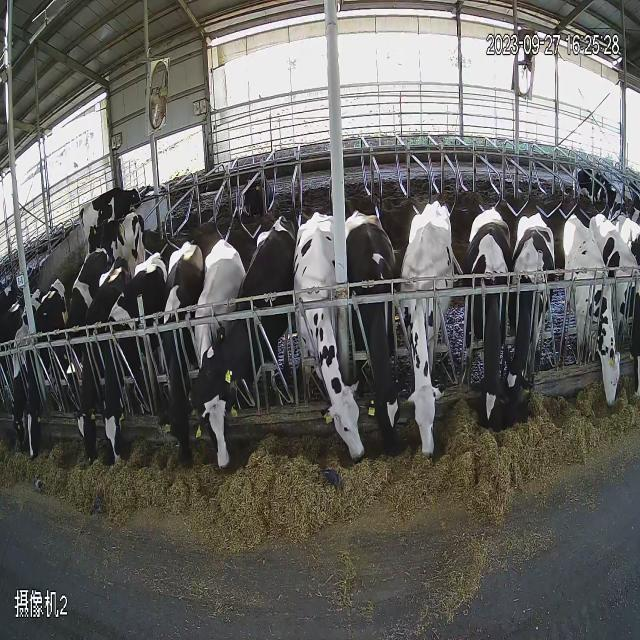drinking: (65, 183, 155, 223)
feeding: (294, 184, 384, 542), (348, 176, 418, 570), (400, 162, 460, 544), (504, 190, 566, 544), (464, 189, 512, 556), (562, 212, 621, 460), (10, 263, 60, 508), (162, 195, 196, 552)
lying down: (560, 120, 624, 212), (232, 150, 283, 228), (294, 185, 300, 188)
standing: (58, 223, 108, 346), (82, 214, 150, 280)
